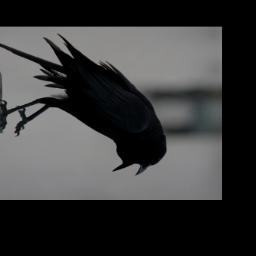Crow: (0, 32, 169, 177)
